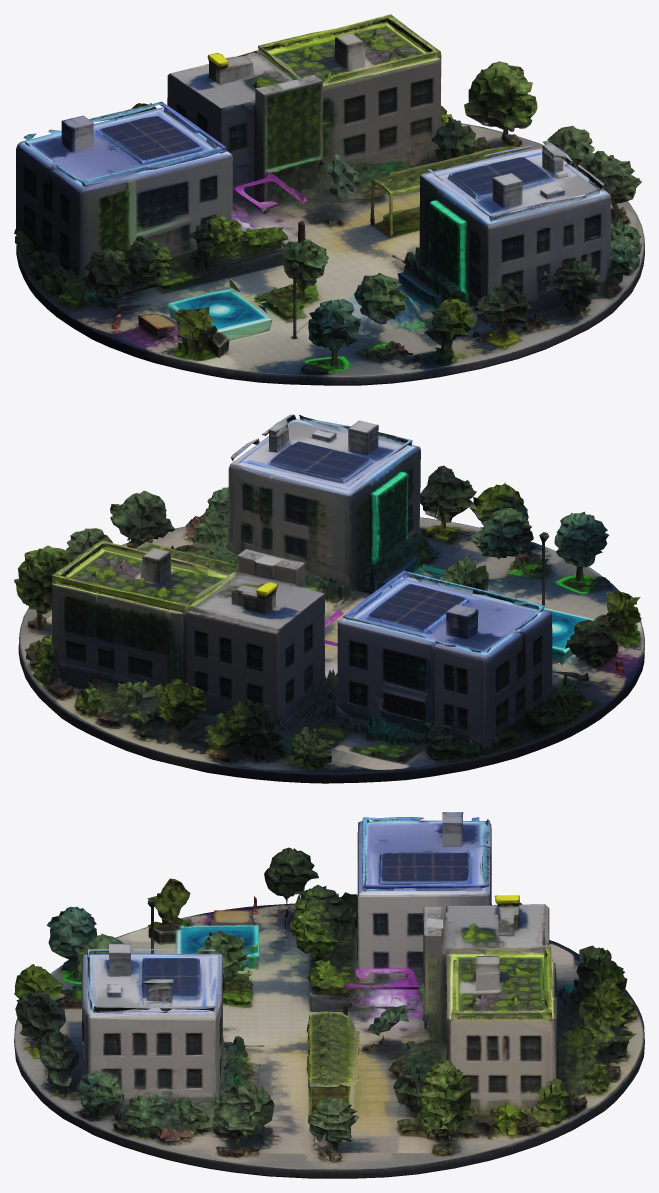
File: intervention.glb
The picture shows the model from 3 angles, top to bottom: view 1: azimuth 30°, elevation 25°; view 2: azimuth 150°, elevation 25°; view 3: azimuth 270°, elevation 25°; orthographic projection.
Parts seen in each view (by area): view 1: world; view 2: world; view 3: world.
Boxes of the visible parts, x1,y1,x2,y2 form: world: [14, 14, 644, 385]; world: [14, 414, 644, 783]; world: [14, 812, 644, 1178].
Size of the model in its own units: 0.9997 by 0.239 by 0.9996.
Materials: 1 (1 with a texture image).
